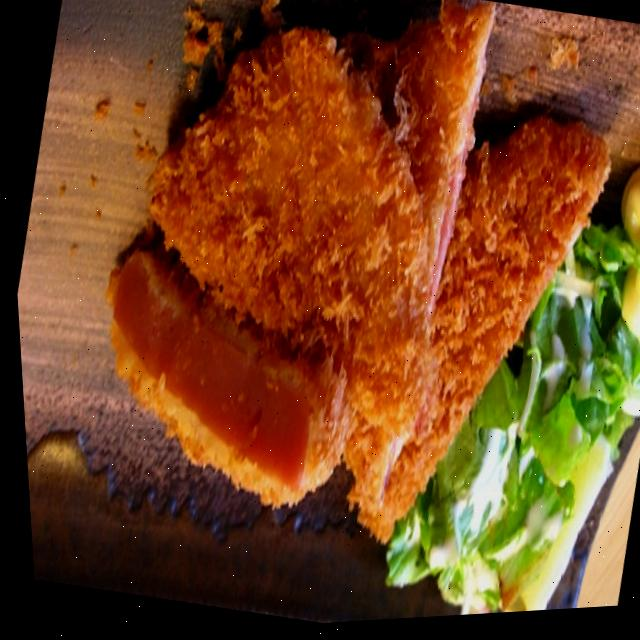炸货点心: (17, 0, 640, 633)
